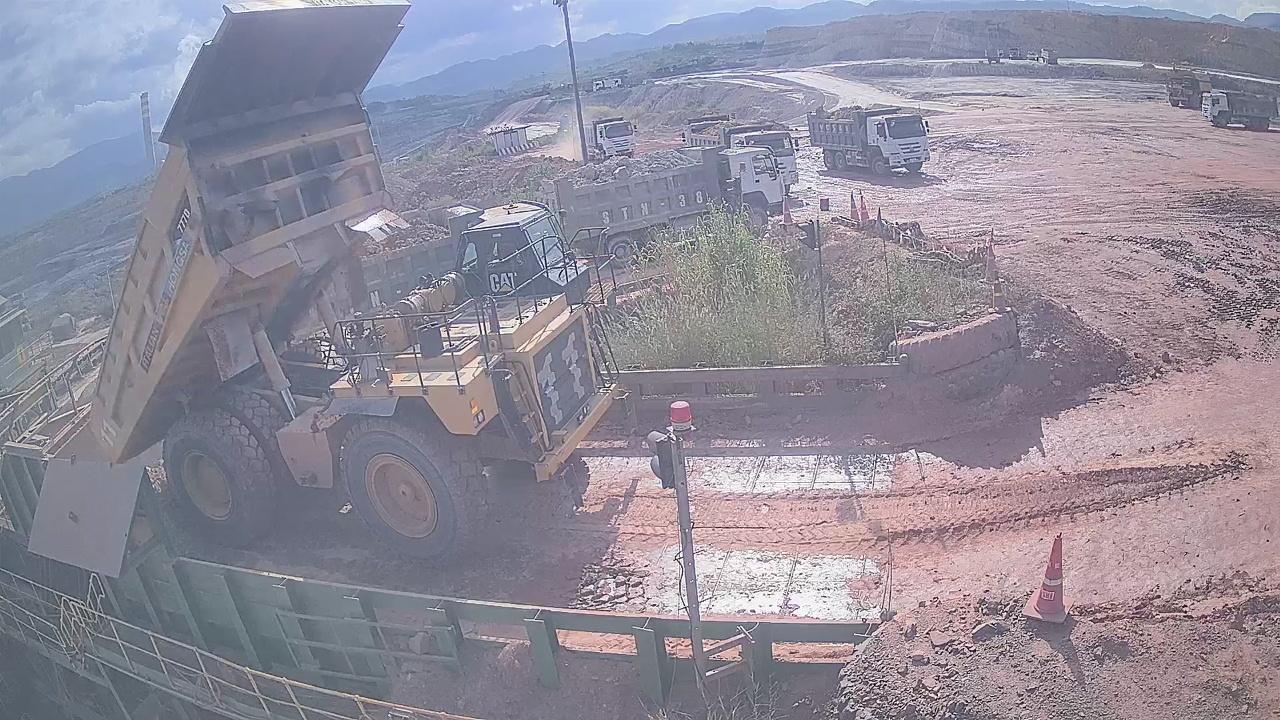company: (139, 243, 189, 381)
dumping_soil: (82, 0, 636, 566)
front_number: (522, 318, 607, 438)
tail_number: (92, 416, 124, 451)
truck_size: (166, 194, 201, 248)
